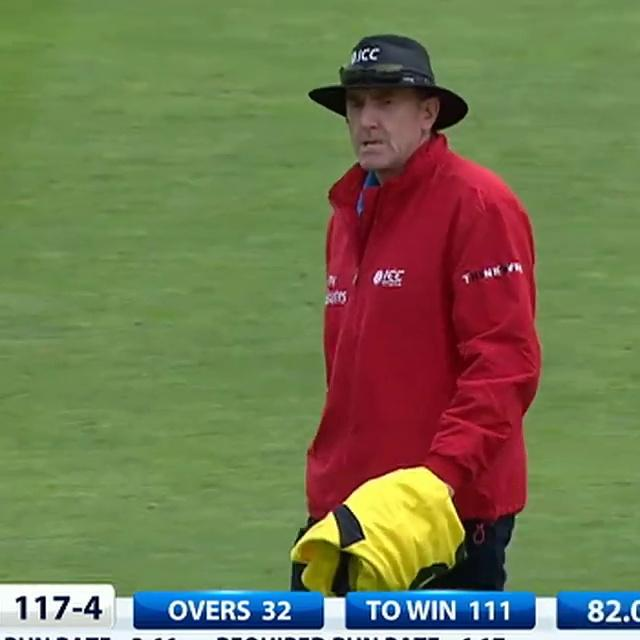umpire: (252, 11, 573, 592)
